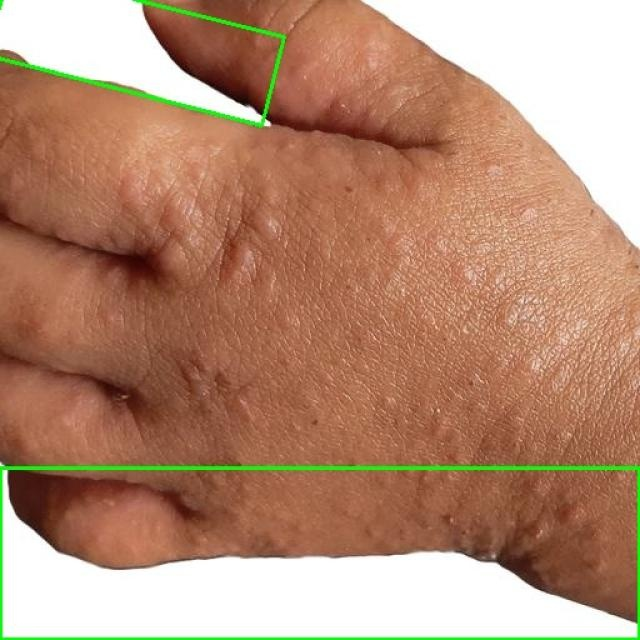Contact Dermatitis: (0, 468, 639, 639), (0, 0, 284, 127)
